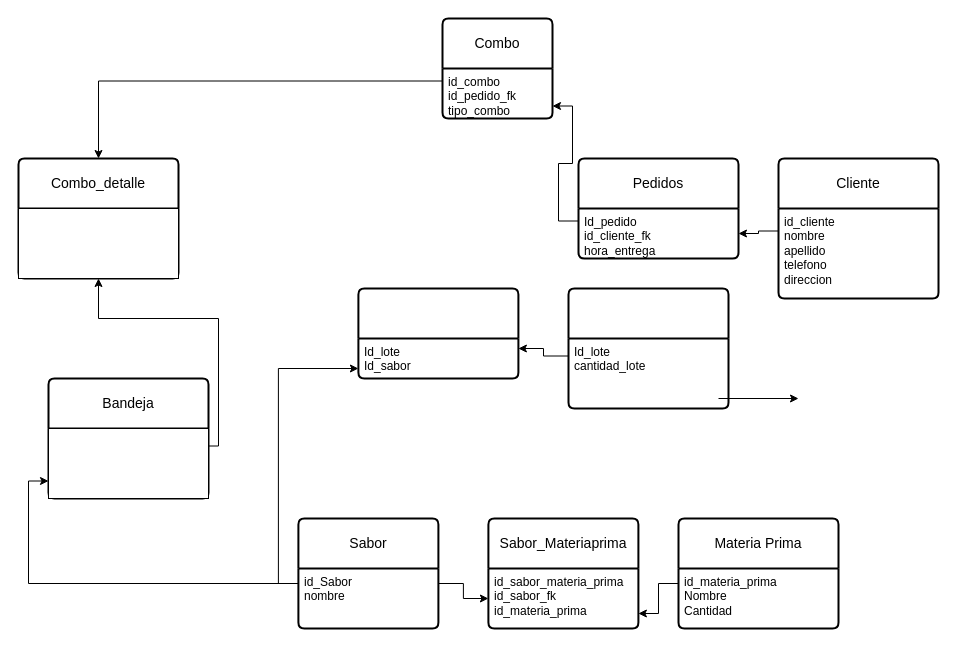
Some shapes in this 956 by 650 pixel diagram are drawn without their labels. The shapes that lost their labels are listed below. From the top down, each one's box as (x1, y1, x2, y2) in pixels, then its label:
(18, 208, 178, 278): Id_despacho id_combo_detalle_fk id_bandeja_fk cantidad_por_sabor
(357, 287, 519, 379): Sabor_lote
(567, 287, 729, 409): Lotes
(48, 428, 208, 498): Id_bandeja fecha_produccion Cantidad_disponible Sabor_fk
